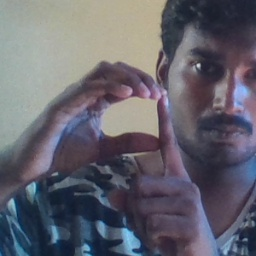P: (48, 56, 206, 236)
